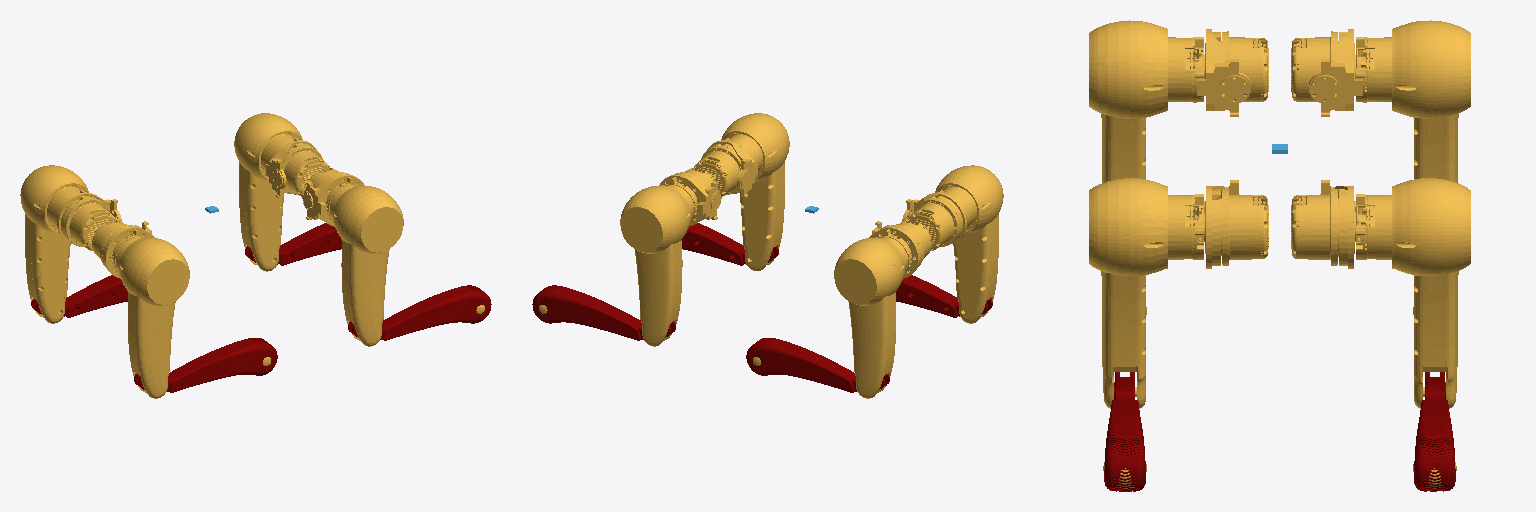
The robot description file, URDF, robot "robot":
<?xml version="1.0" ?>
<!-- =================================================================================== -->
<!-- |    This document was autogenerated by xacro from robot.xacro                    | -->
<!-- |    EDITING THIS FILE BY HAND IS NOT RECOMMENDED                                 | -->
<!-- =================================================================================== -->
<robot name="robot">
  <material name="black">
    <color rgba="0.0 0.0 0.0 1.0"/>
  </material>
  <material name="blue">
    <color rgba="0.0 0.0 0.8 1.0"/>
  </material>
  <material name="green">
    <color rgba="0.0 0.8 0.0 1.0"/>
  </material>
  <material name="gold">
    <color rgba="0.94901960784 0.75294117647 0.33725490196 0.0"/> 
  </material>
  <material name="grey">
    <color rgba="0.2 0.2 0.2 1.0"/>
  </material>
  <material name="silver">
    <color rgba="0.9137254901960784 0.9137254901960784 0.8470588235294118 1.0"/>
  </material>
  <material name="orange">
    <color rgba="1.0 0.4235294117647059 0.0392156862745098 1.0"/>
  </material>
  <material name="brown">
    <color rgba="0.8705882352941177 0.8117647058823529 0.7647058823529411 1.0"/>
  </material>
  <material name="red">
  <!-- aa0505 -->
    <!--color rgba="0.66666666667 0.01960784314 0.01960784314 1.0"/-->
    <color rgba="0.54901960784 0.04705882353 0.0431372549  1.0"/>
  </material>
  <material name="white">
    <color rgba="1.0 1.0 1.0 1.0"/>
  </material>
  
  <link name="base">
    <visual>
      <origin rpy="0 0 0" xyz="0 0 0"/>
      <geometry>
        <mesh filename="../meshes_ysc2go/trunk.STL" scale="1 1 1"/>
      </geometry>
      <material name="red"/>
    </visual>
    <collision>
      <origin rpy="0 0 0" xyz="0 0 0"/>
      <geometry>
        <box size="0.226 0.184 0.129"/>
      </geometry>
    </collision>
    <inertial>
      <origin rpy="0 0 0" xyz="0.03405506 -0.00027342 0.02745369"/>
      <!-- <mesh filename="package://legged_ysc2go_description/meshes/$(arg robot_type)/trunk.STL" scale="1 1 1"/> -->
      <mass value="7.39662602"/>
      <inertia ixx="0.05468948" ixy="-9.577e-05" ixz="-0.02595783" iyy="0.14263652" iyz="-1.269e-05" izz="0.11906457"/>
    </inertial>
  </link>
  <!-- Imu is fixed to the base link -->
  <joint name="unitree_imu_joint" type="fixed">
    <origin rpy="0. 0. 0." xyz="0. 0. 0."/>
    <parent link="base"/>
    <child link="unitree_imu"/>
  </joint>
  <!-- Imu link -->
  <link name="unitree_imu">
    <inertial>
      <mass value="0.01"/>
      <origin rpy="0 0 0" xyz="0 0 0"/>
      <inertia ixx="0.000001" ixy="0" ixz="0" iyy="0.000001" iyz="0" izz="0.000001"/>
    </inertial>
    <visual>
      <origin rpy="0 0 0" xyz="0 0 0"/>
      <geometry>
        <box size="0.015 0.015 0.004"/>
      </geometry>
    </visual>
    <material name="orange">
      <color rgba="255 108 10 255"/>
    </material>
  </link>
  
  <joint name="FR_hip_joint" type="revolute">
    <origin rpy="0 0 0" xyz="0.185 -0.045 0.0"/>
    <parent link="base"/>
    <child link="FR_hip"/>
    <axis xyz="1 0 0"/>
    <dynamics damping="0.0" friction="0.0"/>
    <limit effort="19.94" lower="-0.52" upper="0.52" velocity="30.9971"/>
  </joint>
  <link name="FR_hip">
    <visual>
      <origin rpy="0 0 0" xyz="0 0 0"/>
      <!-- <origin rpy="${pi} 0 0" xyz="0 0 0"/> -->
      <geometry>
        <mesh filename="../meshes_ysc2go/FR_hip_link.STL" scale="1 1 1"/>
      </geometry>
      <material name="gold"/>
    </visual>
    <!-- <collision>
      <origin rpy="1.5707963267948966 0 0" xyz="0 0 0"/>
      <geometry>
        <cylinder length="0.032" radius="0.035"/>
      </geometry>
    </collision> -->
    <inertial>
      <origin rpy="0 0 0" xyz="-0.0028174 -0.00258054 5.131e-05"/>
      <mass value="0.55682085"/>
      <inertia ixx="0.000301" ixy="-1.589e-05" ixz="-2.2e-07" iyy="0.0003762" iyz="-9.8e-07" izz="0.00035095"/>
    </inertial>
  </link>
  <joint name="FR_thigh_joint" type="revolute">
    <!-- c -->
    <!-- <origin rpy="0 0 0" xyz="0 ${thigh_offset*mirror} 0"/> -->
    <origin rpy="0 0.0 0" xyz="0 -0.10879 0"/>
    <parent link="FR_hip"/>
    <child link="FR_thigh"/>
    <!-- <axis xyz="0 -1 0"/> -->
    <axis xyz="0 1 0"/>
    <dynamics damping="0.0" friction="0.0"/>
    <limit effort="19.94" lower="-1" upper="2.64" velocity="30.9971"/>
  </joint>
  <link name="FR_thigh">
    <visual>
      <origin rpy="0 0 0" xyz="0 0 0"/>
      <geometry>
        <mesh filename="../meshes_ysc2go/FR_thigh_link.STL" scale="1 1 1"/>
      </geometry>
      <material name="gold"/>
    </visual>
    <collision>
      <origin rpy="0 1.5707963267948966 0" xyz="0 0 -0.09"/>
      <geometry>
        <box size="0.18 0.03 0.03"/>
      </geometry>
    </collision>
    <!-- <collision>
      <origin rpy="1.5707963267948966 0 0" xyz="0 0 0"/>
      <geometry>
        <cylinder length="0.035" radius="0.035"/>
      </geometry>
    </collision> -->
    <inertial>
      <origin rpy="0 0 0" xyz="-0.00325856 0.02292409 -0.02434837"/>
      <mass value="1.05578211"/>
      <inertia ixx="0.00385729" ixy="-8.335e-05" ixz="-0.00024918" iyy="0.00360924" iyz="-0.00057929" izz="0.00124018"/>
    </inertial>
  </link>
  <joint name="FR_calf_joint" type="revolute">
    <!-- cc -->
    <origin rpy="0 0 0" xyz="0 0 -0.18"/>
    <parent link="FR_thigh"/>
    <child link="FR_calf"/>
    <axis xyz="0 1 0"/>
    <dynamics damping="0.0" friction="0.0"/>
    <limit effort="19.94" lower="-2.64" upper="-0.5" velocity="30.9971"/>
  </joint>
  <link name="FR_calf">
    <visual>
      <origin rpy="0 0 0" xyz="0 0 0"/>
      <geometry>
        <mesh filename="../meshes_ysc2go/FR_calf_link.STL" scale="1 1 1"/>
      </geometry>
      <material name="red"/>
    </visual>
    <collision>
      <origin rpy="0 1.5707963267948966 0" xyz="0 0 -0.09"/>
      <geometry>
        <box size="0.18 0.018 0.015"/>
      </geometry>
    </collision>
    <inertial>
      <origin rpy="0 0 0" xyz="0.00207601 0.00020335 -0.10653136"/>
      <mass value="0.2749309"/>
      <inertia ixx="0.00142334" ixy="-2.7e-07" ixz="4.8e-07" iyy="0.0014332" iyz="-1.04e-06" izz="7.192e-05"/>
    </inertial>
  </link>
  <joint name="FR_foot_fixed" type="fixed" dont_collapse="true">
    <origin rpy="0 0 0" xyz="0 0 -0.18"/>
    <parent link="FR_calf"/>
    <child link="FR_foot"/>
  </joint>
  <link name="FR_foot">
    <visual>
      <origin rpy="0 0 0" xyz="0 0 0"/>
      <geometry>
        <sphere radius="0.02169"/>
        <!-- <mesh filename="package://legged_ysc2go_description/meshes/$(arg robot_type)/FL_toe_link.STL" scale="1 1 1"/> -->
      </geometry>
      <material name="gold"/>
    </visual>
    <collision>
      <origin rpy="0 0 0" xyz="0 0 0"/>
      <geometry>
        <sphere radius="0.02169"/>
      </geometry>
    </collision>
    <inertial>
      <mass value="0.05"/>
      <inertia ixx="9.409122000000001e-06" ixy="0.0" ixz="0.0" iyy="9.409122000000001e-06" iyz="0.0" izz="9.409122000000001e-06"/>
    </inertial>
   
  </link>
  
  <joint name="FL_hip_joint" type="revolute">
    <origin rpy="0 0 0" xyz="0.185 0.045 0.0"/>
    <parent link="base"/>
    <child link="FL_hip"/>
    <axis xyz="1 0 0"/>
    <dynamics damping="0.0" friction="0.0"/>
    <limit effort="19.94" lower="-0.52" upper="0.52" velocity="30.9971"/>
  </joint>
  <link name="FL_hip">
    <visual>
      <origin rpy="0 0 0" xyz="0 0 0"/>
      <geometry>
        <mesh filename="../meshes_ysc2go/FL_hip_link.STL" scale="1 1 1"/>
      </geometry>
      <material name="gold"/>
    </visual>
    <!-- <collision>
      <origin rpy="1.5707963267948966 0 0" xyz="0 0 0"/>
      <geometry>
        <cylinder length="0.032" radius="0.035"/>
      </geometry>
    </collision> -->
    <inertial>
      <origin rpy="0 0 0" xyz="-0.0028174 0.00258054 5.131e-05"/>
      <mass value="0.55682085"/>
      <inertia ixx="0.000301" ixy="1.589e-05" ixz="-2.2e-07" iyy="0.0003762" iyz="9.8e-07" izz="0.00035095"/>
    </inertial>
  </link>
  <joint name="FL_thigh_joint" type="revolute">
    <!-- c -->
    <!-- <origin rpy="0 0 0" xyz="0 ${thigh_offset*mirror} 0"/> -->
    <origin rpy="0 0.0 0" xyz="0 0.10879 0"/>
    <parent link="FL_hip"/>
    <child link="FL_thigh"/>
    <!-- <axis xyz="0 -1 0"/> -->
    <axis xyz="0 1 0"/>
    <dynamics damping="0.0" friction="0.0"/>
    <limit effort="19.94" lower="-1" upper="2.64" velocity="30.9971"/>
  </joint>
  <link name="FL_thigh">
    <visual>
      <origin rpy="0 0 0" xyz="0 0 0"/>
      <geometry>
        <mesh filename="../meshes_ysc2go/FL_thigh_link.STL" scale="1 1 1"/>
      </geometry>
      <material name="gold"/>
    </visual>
    <collision>
      <origin rpy="0 1.5707963267948966 0" xyz="0 0 -0.09"/>
      <geometry>
        <box size="0.18 0.03 0.03"/>
      </geometry>
    </collision>
    <!-- <collision>
      <origin rpy="1.5707963267948966 0 0" xyz="0 0 0"/>
      <geometry>
        <cylinder length="0.035" radius="0.035"/>
      </geometry>
    </collision> -->
    <inertial>
      <origin rpy="0 0 0" xyz="-0.00325856 -0.02292409 -0.02434837"/>
      <mass value="1.05578211"/>
      <inertia ixx="0.00385729" ixy="8.335e-05" ixz="-0.00024918" iyy="0.00360924" iyz="0.00057929" izz="0.00124018"/>
    </inertial>
  </link>
  <joint name="FL_calf_joint" type="revolute">
    <!-- cc -->
    <origin rpy="0 0 0" xyz="0 0 -0.18"/>
    <parent link="FL_thigh"/>
    <child link="FL_calf"/>
    <axis xyz="0 1 0"/>
    <dynamics damping="0.0" friction="0.0"/>
    <limit effort="19.94" lower="-2.64" upper="-0.5" velocity="30.9971"/>
  </joint>
  <link name="FL_calf">
    <visual>
      <origin rpy="0 0 0" xyz="0 0 0"/>
      <geometry>
        <mesh filename="../meshes_ysc2go/FL_calf_link.STL" scale="1 1 1"/>
      </geometry>
      <material name="red"/>
    </visual>
    <collision>
      <origin rpy="0 1.5707963267948966 0" xyz="0 0 -0.09"/>
      <geometry>
        <box size="0.18 0.018 0.015"/>
      </geometry>
    </collision>
    <inertial>
      <origin rpy="0 0 0" xyz="0.00207601 0.00020335 -0.10653136"/>
      <mass value="0.2749309"/>
      <inertia ixx="0.00142334" ixy="-2.7e-07" ixz="4.8e-07" iyy="0.0014332" iyz="-1.04e-06" izz="7.192e-05"/>
    </inertial>
  </link>
  <joint name="FL_foot_fixed" type="fixed" dont_collapse="true">
    <origin rpy="0 0 0" xyz="0 0 -0.18"/>
    <parent link="FL_calf"/>
    <child link="FL_foot"/>
  </joint>
  <link name="FL_foot">
    <visual>
      <origin rpy="0 0 0" xyz="0 0 0"/>
      <geometry>
        <sphere radius="0.02169"/>
        <!-- <mesh filename="package://legged_ysc2go_description/meshes/$(arg robot_type)/FL_toe_link.STL" scale="1 1 1"/> -->
      </geometry>
      <material name="gold"/>
    </visual>
    <collision>
      <origin rpy="0 0 0" xyz="0 0 0"/>
      <geometry>
        <sphere radius="0.02169"/>
      </geometry>
    </collision>
    <inertial>
      <mass value="0.05"/>
      <inertia ixx="9.409122000000001e-06" ixy="0.0" ixz="0.0" iyy="9.409122000000001e-06" iyz="0.0" izz="9.409122000000001e-06"/>
    </inertial>
    
  </link>
 
  <joint name="RR_hip_joint" type="revolute">
    <origin rpy="0 0 0" xyz="-0.185 -0.045 0.0"/>
    <parent link="base"/>
    <child link="RR_hip"/>
    <axis xyz="1 0 0"/>
    <dynamics damping="0.0" friction="0.0"/>
    <limit effort="19.94" lower="-0.52" upper="0.52" velocity="30.9971"/>
  </joint>
  <link name="RR_hip">
    <visual>
      <origin rpy="0 0 3.141592653589793" xyz="0 0 0"/>
      <geometry>
        <mesh filename="../meshes_ysc2go/FL_hip_link.STL" scale="1 1 1"/>
      </geometry>
      <material name="gold"/>
    </visual>
    <!-- <collision>
      <origin rpy="1.5707963267948966 0 0" xyz="0 0 0"/>
      <geometry>
        <cylinder length="0.032" radius="0.035"/>
      </geometry>
    </collision> -->
    <inertial>
      <origin rpy="0 0 0" xyz="0.0028174 -0.00258054 5.131e-05"/>
      <mass value="0.55682085"/>
      <inertia ixx="0.000301" ixy="1.589e-05" ixz="2.2e-07" iyy="0.0003762" iyz="-9.8e-07" izz="0.00035095"/>
    </inertial>
  </link>
  <joint name="RR_thigh_joint" type="revolute">
    <!-- c -->
    <!-- <origin rpy="0 0 0" xyz="0 ${thigh_offset*mirror} 0"/> -->
    <origin rpy="0 0.0 0" xyz="0 -0.10879 0"/>
    <parent link="RR_hip"/>
    <child link="RR_thigh"/>
    <!-- <axis xyz="0 -1 0"/> -->
    <axis xyz="0 1 0"/>
    <dynamics damping="0.0" friction="0.0"/>
    <limit effort="19.94" lower="-1" upper="2.64" velocity="30.9971"/>
  </joint>
  <link name="RR_thigh">
    <visual>
      <origin rpy="0 0 0" xyz="0 0 0"/>
      <geometry>
        <mesh filename="../meshes_ysc2go/FR_thigh_link.STL" scale="1 1 1"/>
      </geometry>
      <material name="gold"/>
    </visual>
    <collision>
      <origin rpy="0 1.5707963267948966 0" xyz="0 0 -0.09"/>
      <geometry>
        <box size="0.18 0.03 0.03"/>
      </geometry>
    </collision>
    <!-- <collision>
      <origin rpy="1.5707963267948966 0 0" xyz="0 0 0"/>
      <geometry>
        <cylinder length="0.035" radius="0.035"/>
      </geometry>
    </collision> -->
    <inertial>
      <origin rpy="0 0 0" xyz="-0.00325856 0.02292409 -0.02434837"/>
      <mass value="1.05578211"/>
      <inertia ixx="0.00385729" ixy="-8.335e-05" ixz="-0.00024918" iyy="0.00360924" iyz="-0.00057929" izz="0.00124018"/>
    </inertial>
  </link>
  <joint name="RR_calf_joint" type="revolute">
    <!-- cc -->
    <origin rpy="0 0 0" xyz="0 0 -0.18"/>
    <parent link="RR_thigh"/>
    <child link="RR_calf"/>
    <axis xyz="0 1 0"/>
    <dynamics damping="0.0" friction="0.0"/>
    <limit effort="19.94" lower="-2.64" upper="-0.5" velocity="30.9971"/>
  </joint>
  <link name="RR_calf">
    <visual>
      <origin rpy="0 0 0" xyz="0 0 0"/>
      <geometry>
        <mesh filename="../meshes_ysc2go/FR_calf_link.STL" scale="1 1 1"/>
      </geometry>
      <material name="red"/>
    </visual>
    <collision>
      <origin rpy="0 1.5707963267948966 0" xyz="0 0 -0.09"/>
      <geometry>
        <box size="0.18 0.018 0.015"/>
      </geometry>
    </collision>
    <inertial>
      <origin rpy="0 0 0" xyz="0.00207601 0.00020335 -0.10653136"/>
      <mass value="0.2749309"/>
      <inertia ixx="0.00142334" ixy="-2.7e-07" ixz="4.8e-07" iyy="0.0014332" iyz="-1.04e-06" izz="7.192e-05"/>
    </inertial>
  </link>
  <joint name="RR_foot_fixed" type="fixed" dont_collapse="true">
    <origin rpy="0 0 0" xyz="0 0 -0.18"/>
    <parent link="RR_calf"/>
    <child link="RR_foot"/>
  </joint>
  <link name="RR_foot">
    <visual>
      <origin rpy="0 0 0" xyz="0 0 0"/>
      <geometry>
        <sphere radius="0.02169"/>
        <!-- <mesh filename="package://legged_ysc2go_description/meshes/$(arg robot_type)/FL_toe_link.STL" scale="1 1 1"/> -->
      </geometry>
      <material name="gold"/>
    </visual>
    <collision>
      <origin rpy="0 0 0" xyz="0 0 0"/>
      <geometry>
        <sphere radius="0.02169"/>
      </geometry>
    </collision>
    <inertial>
      <mass value="0.05"/>
      <inertia ixx="9.409122000000001e-06" ixy="0.0" ixz="0.0" iyy="9.409122000000001e-06" iyz="0.0" izz="9.409122000000001e-06"/>
    </inertial>
    <!-- <inertial>
                <mass value="${0.0}"/>
                <inertia
                        ixx="0.0" ixy="0.0" ixz="0.0"
                        iyy="0.0" iyz="0.0"
                        izz="0.0"/>
            </inertial> -->
    <!-- <inertial>
                <mass value="${foot_mass}"/>
                <origin rpy="0 0 0" xyz="${foot_com_x} ${foot_com_y} ${foot_com_z}"/>
                <inertia
                        ixx="${foot_ixx}" ixy="${foot_ixy}" ixz="${foot_ixz}"
                        iyy="${foot_iyy}" iyz="${foot_iyz}"
                        izz="${foot_izz}"/>
            </inertial> -->
  </link>
  
  <joint name="RL_hip_joint" type="revolute">
    <origin rpy="0 0 0" xyz="-0.185 0.045 0.0"/>
    <parent link="base"/>
    <child link="RL_hip"/>
    <axis xyz="1 0 0"/>
    <dynamics damping="0.0" friction="0.0"/>
    <limit effort="19.94" lower="-0.52" upper="0.52" velocity="30.9971"/>
  </joint>
  <link name="RL_hip">
    <visual>
      <origin rpy="0 0 3.141592653589793" xyz="0 0 0"/>
      <geometry>
        <mesh filename="../meshes_ysc2go/FR_hip_link.STL" scale="1 1 1"/>
      </geometry>
      <material name="gold"/>
    </visual>
    <!-- <collision>
      <origin rpy="1.5707963267948966 0 0" xyz="0 0 0"/>
      <geometry>
        <cylinder length="0.032" radius="0.035"/>
      </geometry>
    </collision> -->
    <inertial>
      <origin rpy="0 0 0" xyz="0.0028174 0.00258054 5.131e-05"/>
      <mass value="0.55682085"/>
      <inertia ixx="0.000301" ixy="-1.589e-05" ixz="2.2e-07" iyy="0.0003762" iyz="9.8e-07" izz="0.00035095"/>
    </inertial>
  </link>
  <joint name="RL_thigh_joint" type="revolute">
    <!-- c -->
    <!-- <origin rpy="0 0 0" xyz="0 ${thigh_offset*mirror} 0"/> -->
    <origin rpy="0 0.0 0" xyz="0 0.10879 0"/>
    <parent link="RL_hip"/>
    <child link="RL_thigh"/>
    <!-- <axis xyz="0 -1 0"/> -->
    <axis xyz="0 1 0"/>
    <dynamics damping="0.0" friction="0.0"/>
    <limit effort="19.94" lower="-1" upper="2.64" velocity="30.9971"/>
  </joint>
  <link name="RL_thigh">
    <visual>
      <origin rpy="0 0 0" xyz="0 0 0"/>
      <geometry>
        <mesh filename="../meshes_ysc2go/FL_thigh_link.STL" scale="1 1 1"/>
      </geometry>
      <material name="gold"/>
    </visual>
    <collision>
      <origin rpy="0 1.5707963267948966 0" xyz="0 0 -0.09"/>
      <geometry>
        <box size="0.18 0.03 0.03"/>
      </geometry>
    </collision>
    <!-- <collision>
      <origin rpy="1.5707963267948966 0 0" xyz="0 0 0"/>
      <geometry>
        <cylinder length="0.035" radius="0.035"/>
      </geometry>
    </collision> -->
    <inertial>
      <origin rpy="0 0 0" xyz="-0.00325856 -0.02292409 -0.02434837"/>
      <mass value="1.05578211"/>
      <inertia ixx="0.00385729" ixy="8.335e-05" ixz="-0.00024918" iyy="0.00360924" iyz="0.00057929" izz="0.00124018"/>
    </inertial>
  </link>
  <joint name="RL_calf_joint" type="revolute">
    <!-- cc -->
    <origin rpy="0 0 0" xyz="0 0 -0.18"/>
    <parent link="RL_thigh"/>
    <child link="RL_calf"/>
    <axis xyz="0 1 0"/>
    <dynamics damping="0.0" friction="0.0"/>
    <limit effort="19.94" lower="-2.64" upper="-0.5" velocity="30.9971"/>
  </joint>
  <link name="RL_calf">
    <visual>
      <origin rpy="0 0 0" xyz="0 0 0"/>
      <geometry>
        <mesh filename="../meshes_ysc2go/FL_calf_link.STL" scale="1 1 1"/>
      </geometry>
      <material name="red"/>
    </visual>
    <collision>
      <origin rpy="0 1.5707963267948966 0" xyz="0 0 -0.09"/>
      <geometry>
        <box size="0.18 0.018 0.015"/>
      </geometry>
    </collision>
    <inertial>
      <origin rpy="0 0 0" xyz="0.00207601 0.00020335 -0.10653136"/>
      <mass value="0.2749309"/>
      <inertia ixx="0.00142334" ixy="-2.7e-07" ixz="4.8e-07" iyy="0.0014332" iyz="-1.04e-06" izz="7.192e-05"/>
    </inertial>
  </link>
  <joint name="RL_foot_fixed" type="fixed" dont_collapse="true">
    <origin rpy="0 0 0" xyz="0 0 -0.18"/>
    <parent link="RL_calf"/>
    <child link="RL_foot"/>
  </joint>
  <link name="RL_foot">
    <visual>
      <origin rpy="0 0 0" xyz="0 0 0"/>
      <geometry>
        <sphere radius="0.02169"/>
        <!-- <mesh filename="package://legged_ysc2go_description/meshes/$(arg robot_type)/FL_toe_link.STL" scale="1 1 1"/> -->
      </geometry>
      <material name="gold"/>
    </visual>
    <collision>
      <origin rpy="0 0 0" xyz="0 0 0"/>
      <geometry>
        <sphere radius="0.02169"/>
      </geometry>
    </collision>
    <inertial>
      <mass value="0.05"/>
      <inertia ixx="9.409122000000001e-06" ixy="0.0" ixz="0.0" iyy="9.409122000000001e-06" iyz="0.0" izz="9.409122000000001e-06"/>
    </inertial>
    <!-- <inertial>
                <mass value="${0.0}"/>
                <inertia
                        ixx="0.0" ixy="0.0" ixz="0.0"
                        iyy="0.0" iyz="0.0"
                        izz="0.0"/>
            </inertial> -->
    <!-- <inertial>
                <mass value="${foot_mass}"/>
                <origin rpy="0 0 0" xyz="${foot_com_x} ${foot_com_y} ${foot_com_z}"/>
                <inertia
                        ixx="${foot_ixx}" ixy="${foot_ixy}" ixz="${foot_ixz}"
                        iyy="${foot_iyy}" iyz="${foot_iyz}"
                        izz="${foot_izz}"/>
            </inertial> -->
  </link>
  
  <!-- Robot Footprint -->
  <!-- <joint name="footprint_joint" type="fixed">
        <parent link="base"/>
        <child link="base_footprint"/>
        <origin xyz="0.0 0.0 -0.2" rpy="0 0 0"/>
    </joint>

    <link name="base_footprint">
      <inertial>
      <origin xyz="0 0 0" rpy="${pi/2} 0 ${pi/2}"/>      
      <mass value="0.001"/>
      <inertia ixx="0.0" ixy="0.0" ixz="0.0" iyy="0.0" iyz="0.0" izz="0.0"/>
    </inertial>
    </link>

    <xacro:lidar parent="base" xyz="-0.065 0. 0.1" rpy="0. 0. 0."/> -->
</robot>

--- What the picture shows (computed from the rendered views, not written in the file) ---
Views: 3 orthographic renders of the robot side by side, from view 1: azimuth 30°, elevation 25°; view 2: azimuth 150°, elevation 25°; view 3: azimuth 270°, elevation 25°.
Robot: robot — 18 links, 17 joints (12 revolute, 5 fixed); root link base; default pose: joints at zero except 4 at the middle of their limits (FR_calf_joint = -1.57, FL_calf_joint = -1.57, RR_calf_joint = -1.57, RL_calf_joint = -1.57).
Visible links, largest first — view 1: RR_thigh, FR_thigh, RL_thigh, FL_thigh, RR_calf, FR_calf, RL_hip, FL_hip, FL_calf, RL_calf, FR_hip, RR_hip; view 2: RL_thigh, FL_thigh, RR_thigh, FR_thigh, RL_calf, FL_calf, RR_hip, FR_hip, RR_calf, FR_calf, FL_hip, RL_hip; view 3: FL_thigh, FR_thigh, RL_thigh, RR_thigh, RR_hip, RL_hip, FL_hip, FR_hip, FL_calf, FR_calf.
Link boxes in pixels (<box>): RR_thigh: <box>112,229,189,398</box>; FR_thigh: <box>326,177,403,346</box>; RL_thigh: <box>20,165,88,323</box>; FL_thigh: <box>234,113,302,271</box>; RR_calf: <box>134,338,277,392</box>; FR_calf: <box>348,285,491,340</box>; RL_hip: <box>57,192,121,250</box>; FL_hip: <box>266,140,329,197</box>; FL_calf: <box>245,223,341,265</box>; RL_calf: <box>31,275,127,317</box>; FR_hip: <box>302,168,364,226</box>; RR_hip: <box>92,220,154,278</box>; RL_thigh: <box>834,229,911,398</box>; FL_thigh: <box>620,177,697,346</box>; RR_thigh: <box>935,165,1003,323</box>; FR_thigh: <box>721,113,789,270</box>; RL_calf: <box>746,338,889,392</box>; FL_calf: <box>532,285,675,340</box>; RR_hip: <box>902,192,966,250</box>; FR_hip: <box>694,140,757,197</box>; RR_calf: <box>896,275,992,317</box>; FR_calf: <box>682,223,778,265</box>; FL_hip: <box>659,168,721,225</box>; RL_hip: <box>869,220,931,278</box>; FL_thigh: <box>1355,178,1470,408</box>; FR_thigh: <box>1089,178,1204,408</box>; RL_thigh: <box>1355,20,1470,182</box>; RR_thigh: <box>1089,20,1204,182</box>; RR_hip: <box>1197,29,1268,116</box>; RL_hip: <box>1291,29,1362,116</box>; FL_hip: <box>1291,180,1355,268</box>; FR_hip: <box>1204,180,1268,268</box>; FL_calf: <box>1414,372,1455,491</box>; FR_calf: <box>1104,372,1145,491</box>.
Size in the robot's own frame: 0.6209 by 0.3791 by 0.2537 metres.
12 mesh visuals loaded from 7 distinct referenced files (6 binary STL); not drawn: 1 (reference not matched to a file when rendering).
